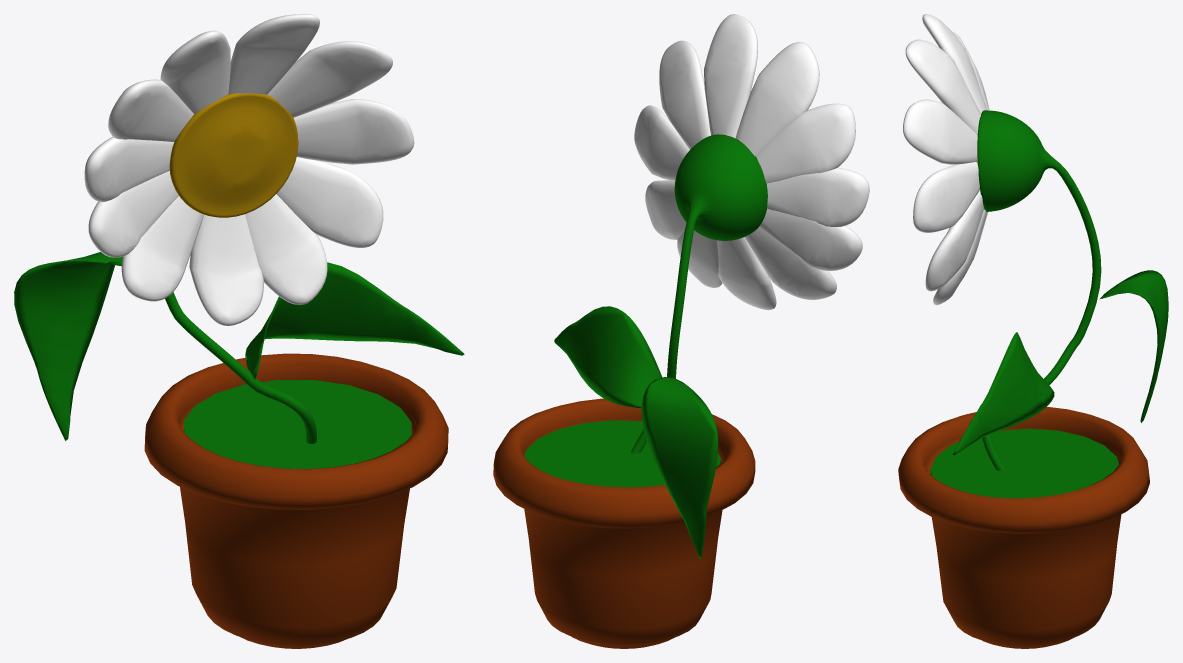
Rendered from cartoon flower.FBX.
3 views of the same model, side by side, from view 1: azimuth 30°, elevation 25°; view 2: azimuth 150°, elevation 25°; view 3: azimuth 270°, elevation 25° (orthographic). The views are drawn at different scales.
Parts seen in each view (by area): view 1: vase, Line118, Cylinder016, Cylinder015, Line115, Line116, Line108, Line113, Line112, Line120, Line109, Line119 (+3 smaller); view 2: vase, Line118, Cylinder016, Line110, Line121, Line109, Line114, Line112, Line119, Line120, Line108, Line116 (+2 smaller); view 3: vase, Line118, Cylinder016, Line112, Line116, Line109, Line115, Line110, Line113.
Part boxes in pixels (left/top/right/bottom): vase: left=144, top=353, right=448, bottom=648; Line118: left=14, top=252, right=464, bottom=443; Cylinder016: left=183, top=380, right=411, bottom=468; Cylinder015: left=169, top=93, right=298, bottom=217; Line115: left=277, top=157, right=383, bottom=247; Line116: left=293, top=99, right=414, bottom=164; Line108: left=189, top=214, right=263, bottom=325; Line113: left=245, top=194, right=327, bottom=304; Line112: left=267, top=41, right=392, bottom=117; Line120: left=121, top=196, right=203, bottom=301; Line109: left=228, top=14, right=319, bottom=94; Line119: left=88, top=171, right=178, bottom=257; vase: left=493, top=398, right=755, bottom=648; Line118: left=554, top=134, right=767, bottom=558; Cylinder016: left=524, top=420, right=720, bottom=487; Line110: left=735, top=42, right=819, bottom=156; Line121: left=756, top=103, right=855, bottom=183; Line109: left=704, top=14, right=757, bottom=138; Line114: left=766, top=167, right=869, bottom=226; Line112: left=659, top=40, right=710, bottom=149; Line119: left=759, top=208, right=862, bottom=270; Line120: left=744, top=226, right=836, bottom=299; Line108: left=717, top=237, right=776, bottom=310; Line116: left=634, top=105, right=689, bottom=181; vase: left=898, top=407, right=1149, bottom=648; Line118: left=952, top=110, right=1168, bottom=470; Cylinder016: left=930, top=428, right=1118, bottom=498; Line112: left=903, top=99, right=977, bottom=164; Line116: left=913, top=162, right=979, bottom=232; Line109: left=905, top=39, right=980, bottom=133; Line115: left=925, top=190, right=984, bottom=291; Line110: left=922, top=14, right=986, bottom=113; Line113: left=933, top=209, right=986, bottom=305.
Bounding box in the file's own units: 41.37 × 70.63 × 30.98.
